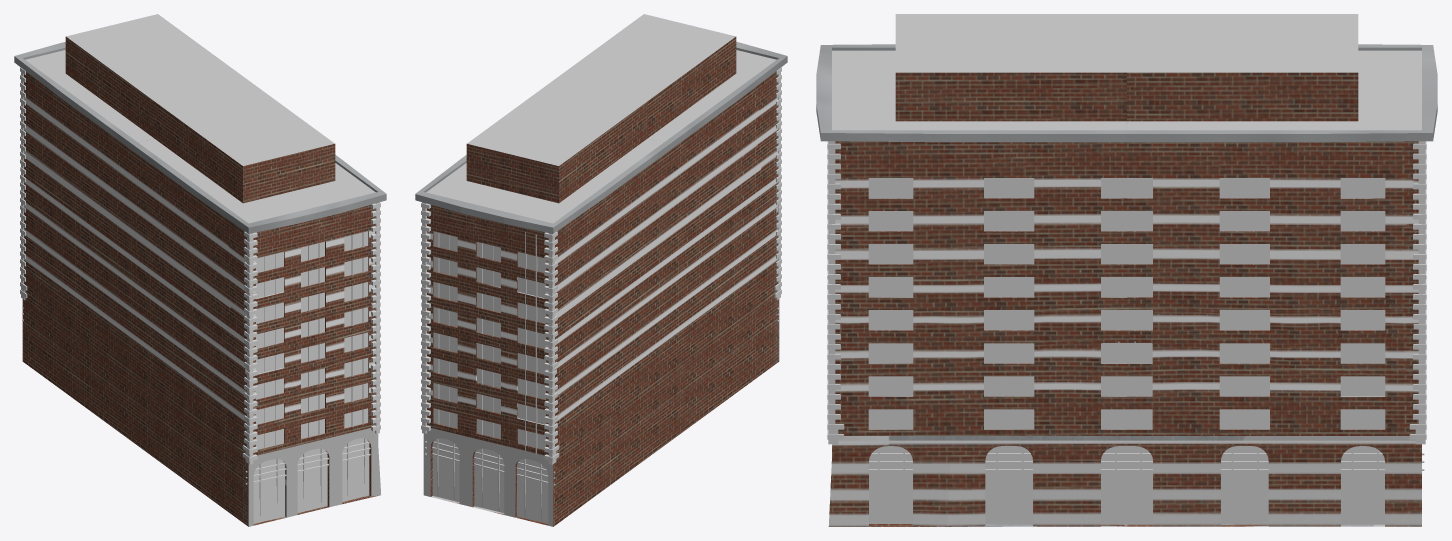
The model's file is building2.fbx.
The picture shows the model from 3 angles, left to right: view 1: azimuth 30°, elevation 25°; view 2: azimuth 150°, elevation 25°; view 3: azimuth 270°, elevation 25°; orthographic projection. The views are drawn at different scales.
Parts seen in each view (by area): view 1: Kubus.109, Kubus.112, Cube.020, Kubus.111, Kubus.114; view 2: Kubus.109, Kubus.112, Cube.020, Kubus.115, Kubus.114; view 3: Kubus.109, Kubus.112, Cube.020, Kubus.114, Kubus.116.
Boxes of the visible parts, <box> form: Kubus.109: <box>14,14,386,526</box>; Kubus.112: <box>253,231,369,523</box>; Cube.020: <box>20,67,380,464</box>; Kubus.111: <box>264,232,364,448</box>; Kubus.114: <box>22,307,370,521</box>; Kubus.109: <box>415,14,787,526</box>; Kubus.112: <box>432,231,548,523</box>; Cube.020: <box>421,67,781,464</box>; Kubus.115: <box>437,231,537,454</box>; Kubus.114: <box>424,308,778,521</box>; Kubus.109: <box>816,14,1437,526</box>; Kubus.112: <box>868,178,1385,524</box>; Cube.020: <box>827,141,1426,444</box>; Kubus.114: <box>869,446,1424,523</box>; Kubus.116: <box>999,178,1373,429</box>.
Size of the model in its own units: 2136 by 4879 by 6218.
